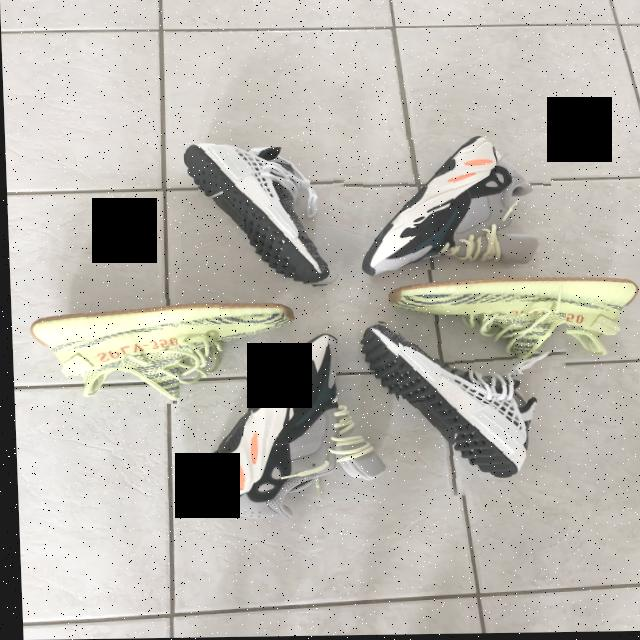shoe: (175, 323, 402, 542), (346, 315, 570, 504), (335, 121, 552, 285), (12, 287, 296, 406), (368, 269, 640, 380), (176, 126, 349, 290)
